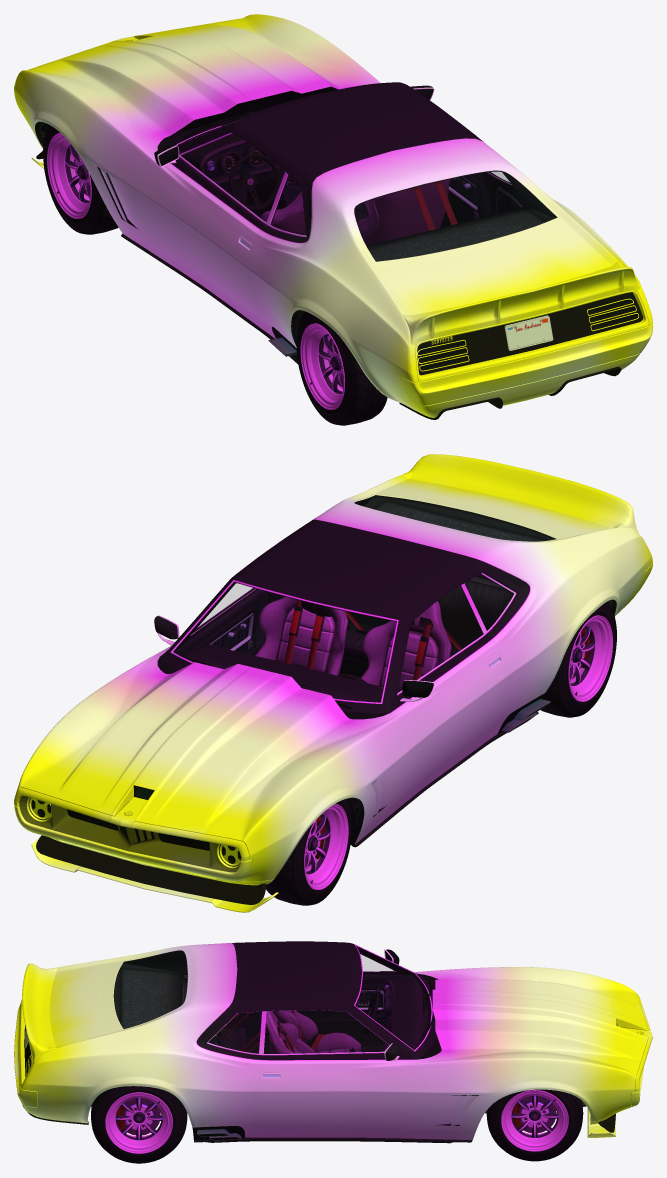
File: deviant.glb
3 views of the same model, one above another, from view 1: azimuth 30°, elevation 25°; view 2: azimuth 150°, elevation 25°; view 3: azimuth 270°, elevation 25° (orthographic). The views are drawn at different scales.
Visible parts, largest first — view 1: bodyshell, bonnet, chassis, misc_r, windscreen_r, door_dside_f, boot, misc_b, extra_1, wheel_lr, wheel_lf, window_lf (+4 smaller); view 2: bodyshell, bonnet, chassis, misc_r, door_dside_f, extra_1, misc_g, wheel_lf, wheel_lr, misc_v, misc_i, window_lf (+7 smaller); view 3: bodyshell, bonnet, chassis, door_pside_f, misc_r, wheel_rr, wheel_rf, window_rf, windscreen_r, boot, door_dside_f, extra_1 (+7 smaller).
Part boxes in pixels (x1,y1,x2,y2): bodyshell: (14, 14, 652, 419); bonnet: (52, 23, 345, 137); chassis: (127, 40, 556, 350); misc_r: (175, 82, 511, 242); windscreen_r: (355, 172, 555, 260); door_dside_f: (134, 145, 266, 316); boot: (380, 224, 630, 341); misc_b: (401, 324, 652, 405); extra_1: (402, 261, 639, 345); wheel_lr: (296, 311, 387, 425); wheel_lf: (43, 125, 118, 234); window_lf: (183, 134, 284, 220); bodyshell: (17, 475, 652, 885); bonnet: (51, 662, 351, 834); chassis: (124, 496, 554, 815); misc_r: (160, 519, 529, 713); door_dside_f: (391, 634, 508, 804); extra_1: (402, 454, 638, 533); misc_g: (19, 795, 241, 872); wheel_lf: (266, 798, 352, 905); wheel_lr: (541, 602, 616, 717); misc_v: (14, 787, 252, 881); misc_i: (36, 835, 266, 904); window_lf: (398, 587, 481, 691); bodyshell: (19, 943, 640, 1143); bonnet: (432, 979, 648, 1062); chassis: (25, 947, 643, 1113); door_pside_f: (258, 1043, 427, 1129); misc_r: (196, 941, 436, 1059); wheel_rr: (91, 1086, 187, 1163); wheel_rf: (486, 1089, 583, 1161); window_rf: (264, 1011, 388, 1053); windscreen_r: (114, 951, 187, 1028); boot: (49, 962, 113, 1047); door_dside_f: (259, 949, 417, 1045); extra_1: (22, 963, 57, 1063).
Size of the model in its own units: 1.95 by 1.28 by 4.98.
23 materials, 23 textured.
